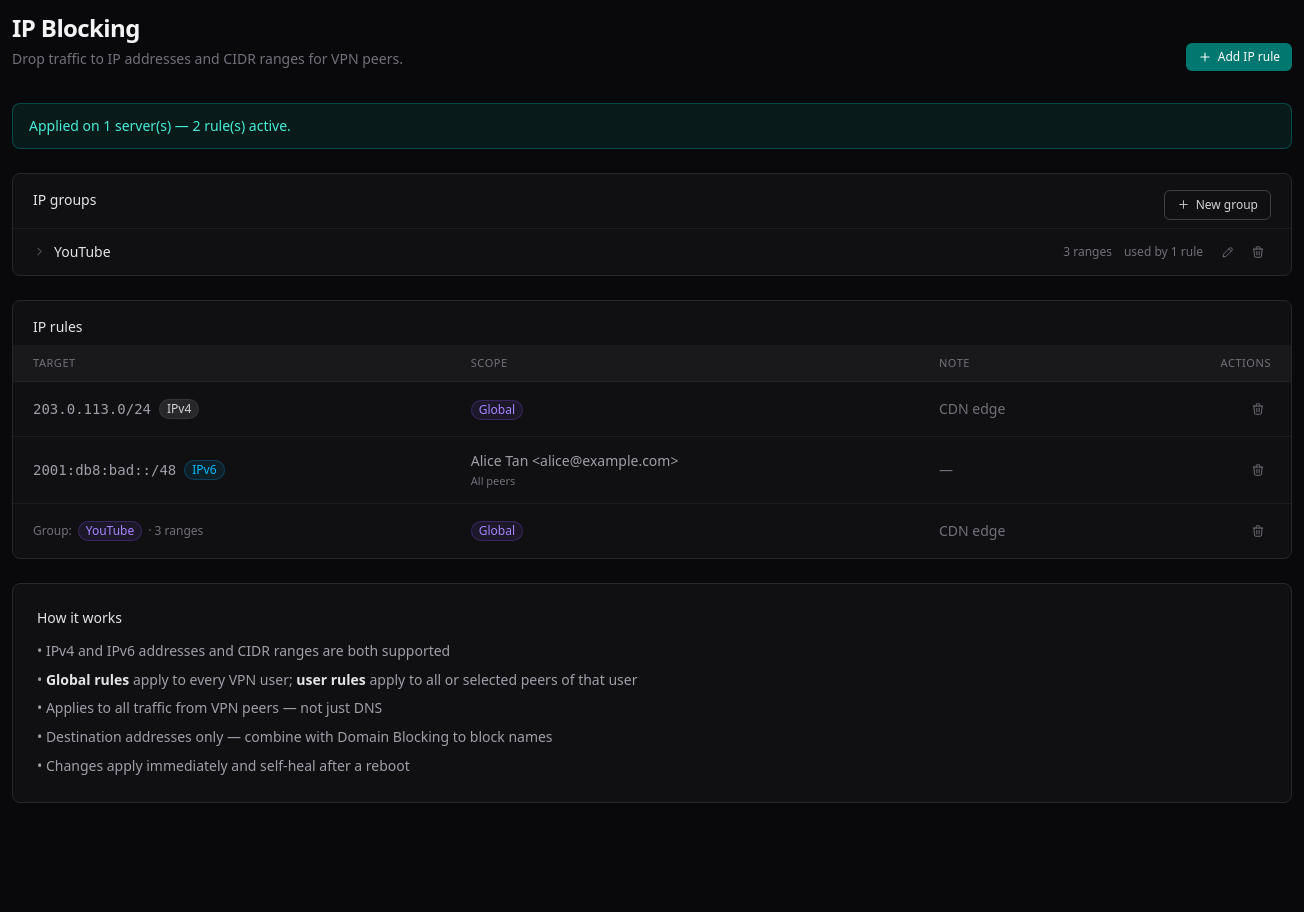
Test: IPBlockingPage › lists IP groups and renders group-targeted rules as a chip
Expected: the text "used by 1 rule" is shown, [1124,244,1203,260]
Expected: the text "3 ranges" is shown, [1063,244,1112,260]
Expanding a group reveals its CIDRs as compact mono chips.
Click the button "YouTube": click(82, 251) [33,242,1051,262]
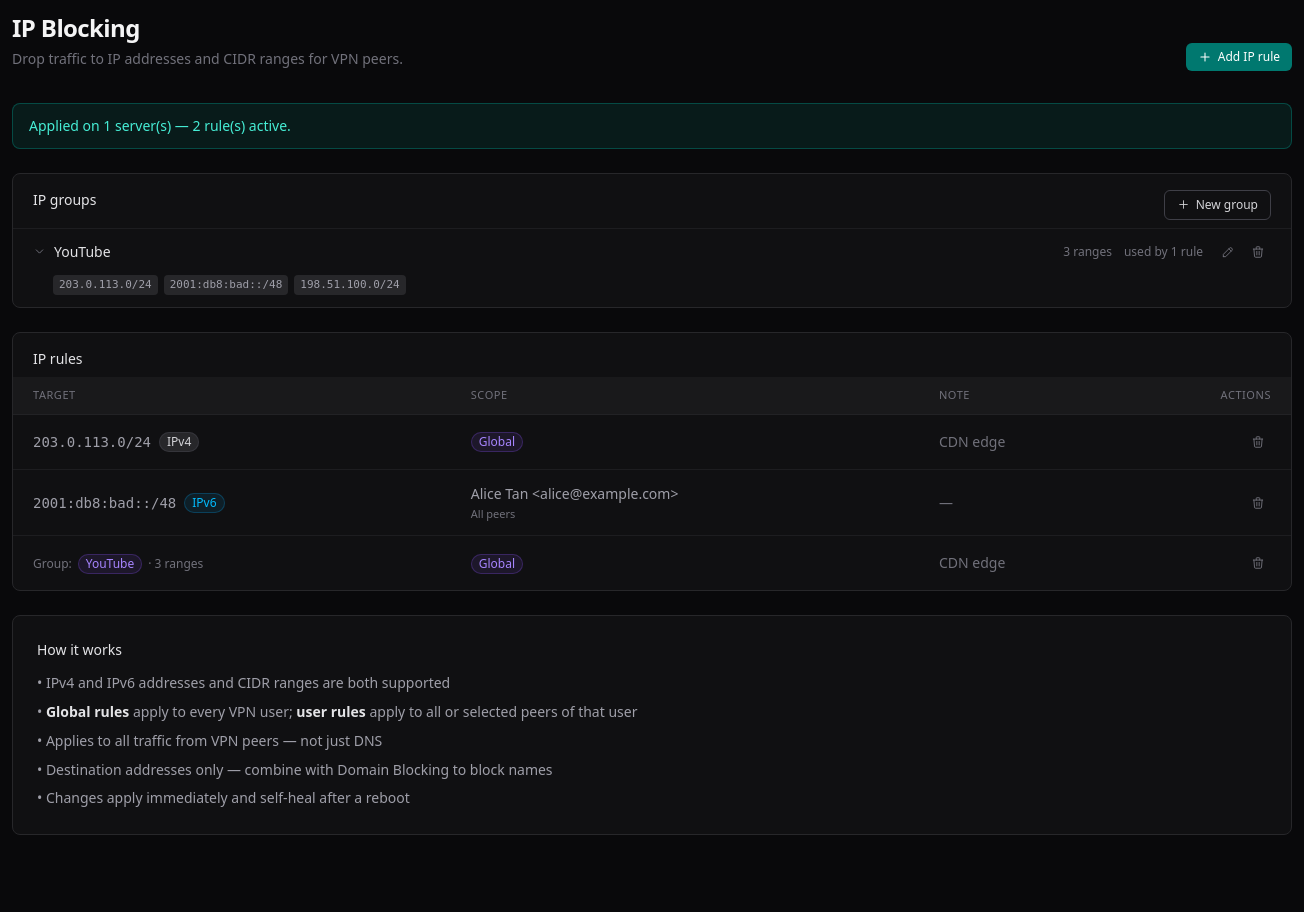
Now the text "198.51.100.0/24" is shown, box [294,275,406,295]
